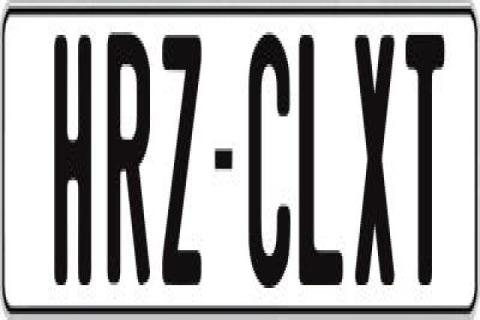C: (245, 29, 287, 288)
H: (52, 26, 92, 276)
L: (299, 26, 351, 291)
R: (107, 32, 149, 285)
T: (404, 35, 446, 288)
X: (354, 32, 400, 291)
Z: (160, 26, 202, 288)
